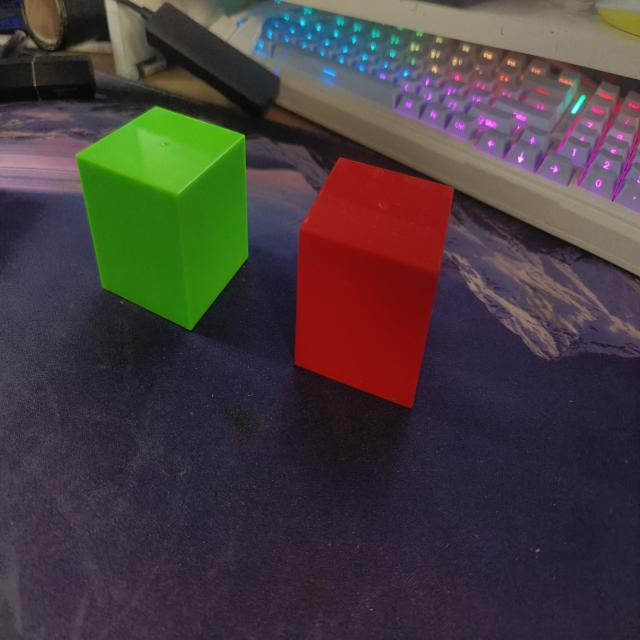green: (70, 101, 256, 336)
red: (285, 150, 458, 412)
